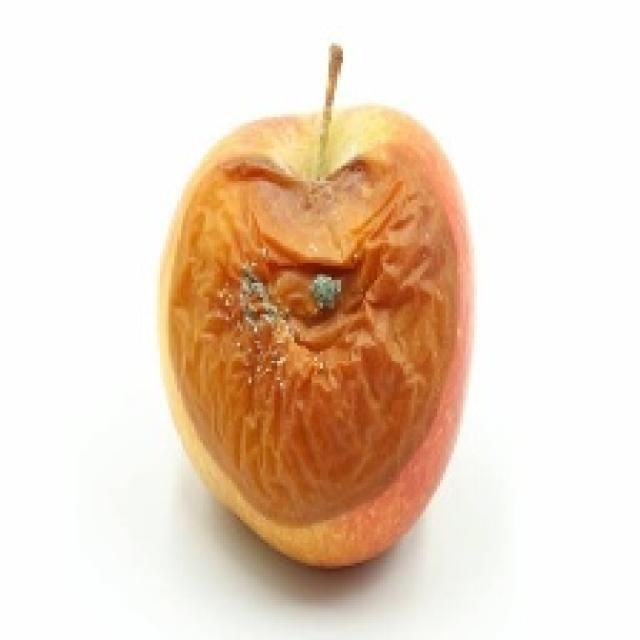rotten_apple: (171, 112, 466, 561)
